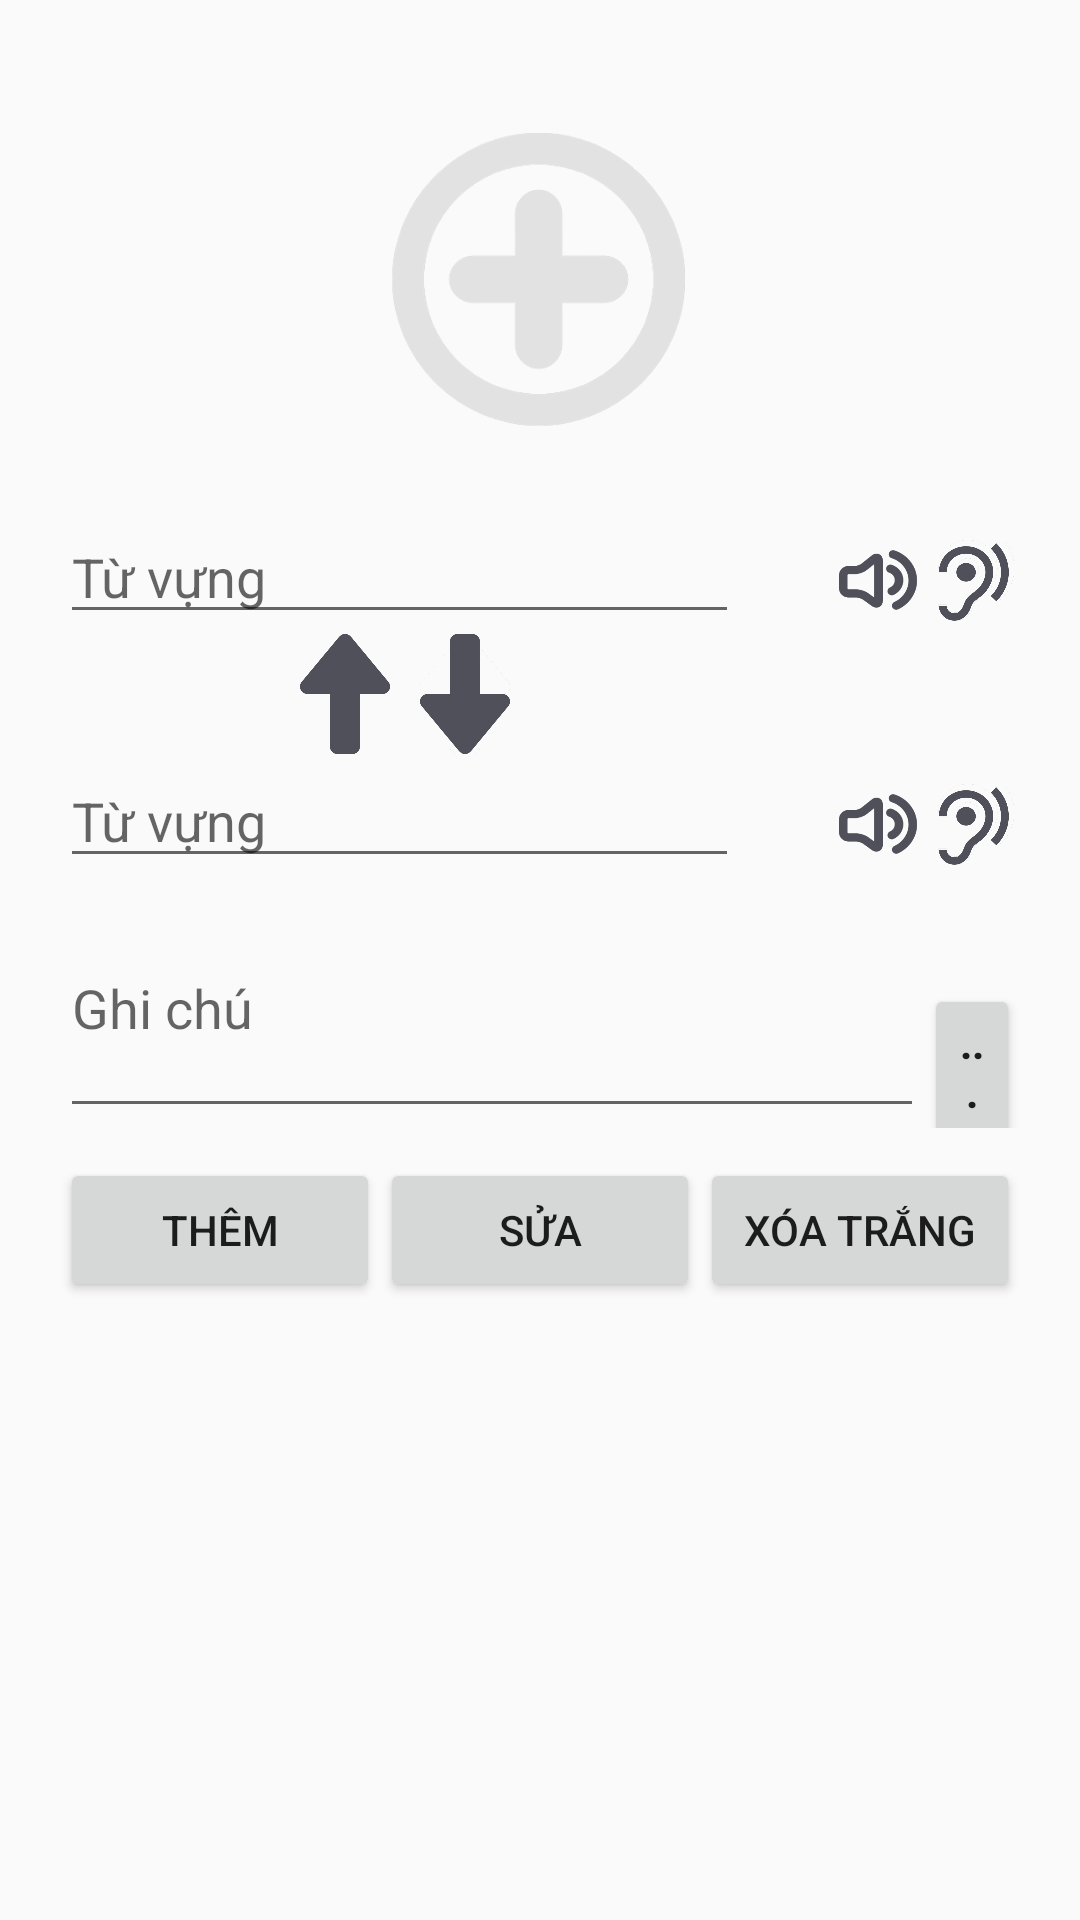

Locate icon controls on the screen. Image size 1080 x 1920, boxes as bbox(x1, y1, x2, y2).
buttonbutom: bbox(420, 634, 510, 754)
buttontop: bbox(300, 634, 390, 754)
ear: bbox(939, 543, 1014, 621), bbox(939, 787, 1014, 865)
loa: bbox(839, 550, 917, 610), bbox(839, 794, 917, 854)
